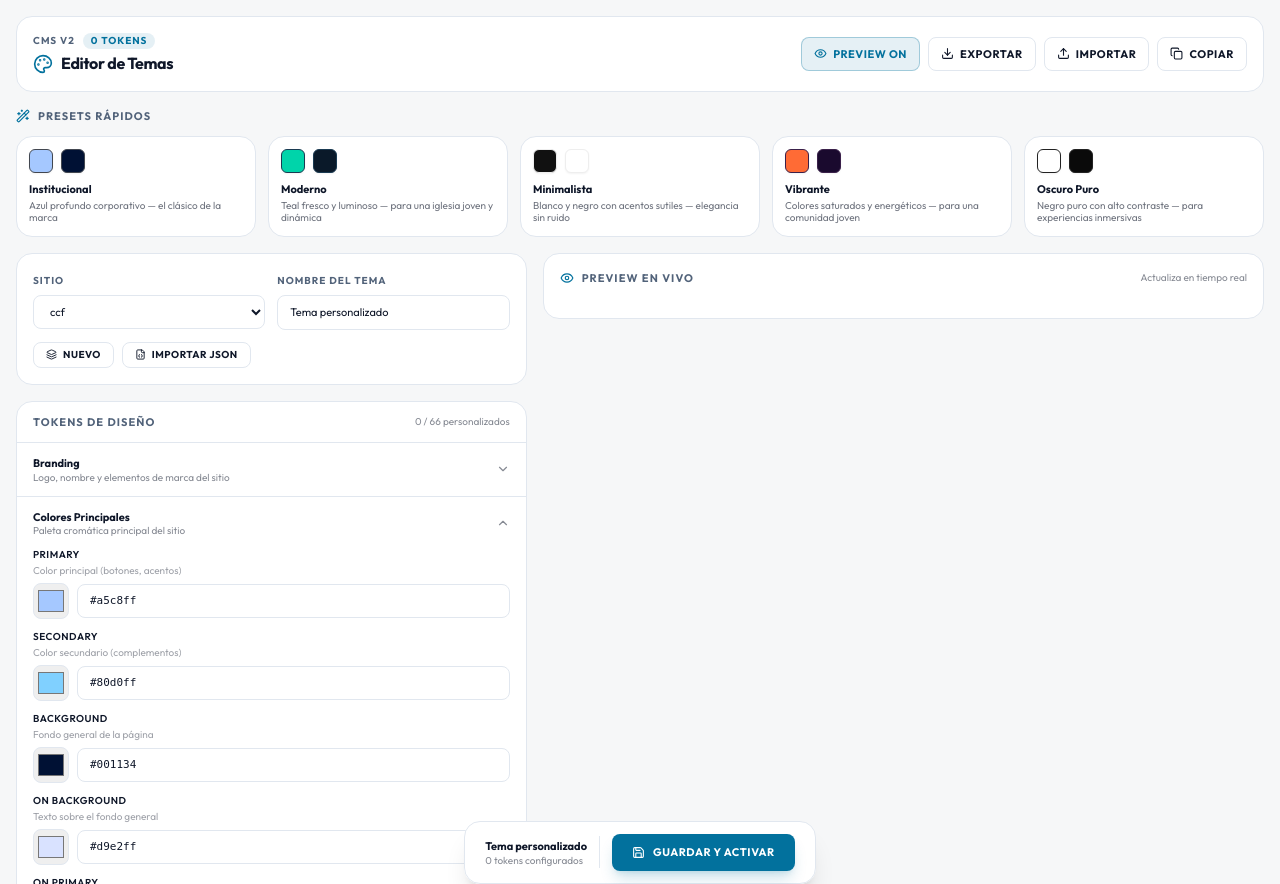
CmsThemesPage › exporta el tema a JSON
What coordinates should you click on to do the following:
click the button "Exportar"
I would click on:
 (982, 54)
Its box is [928,36,1036,71].
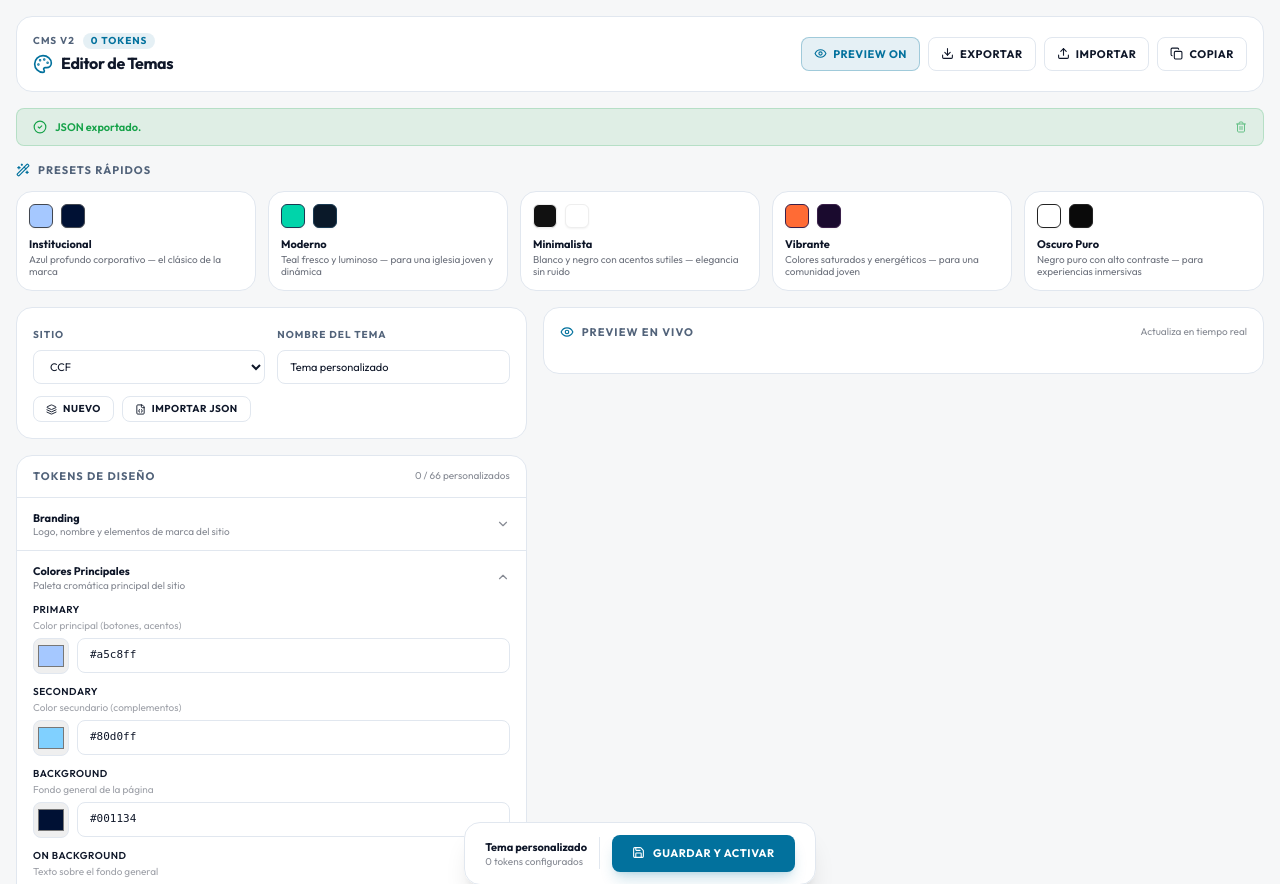
Check: the text "JSON exportado." is shown, box [16,108,1264,146]
